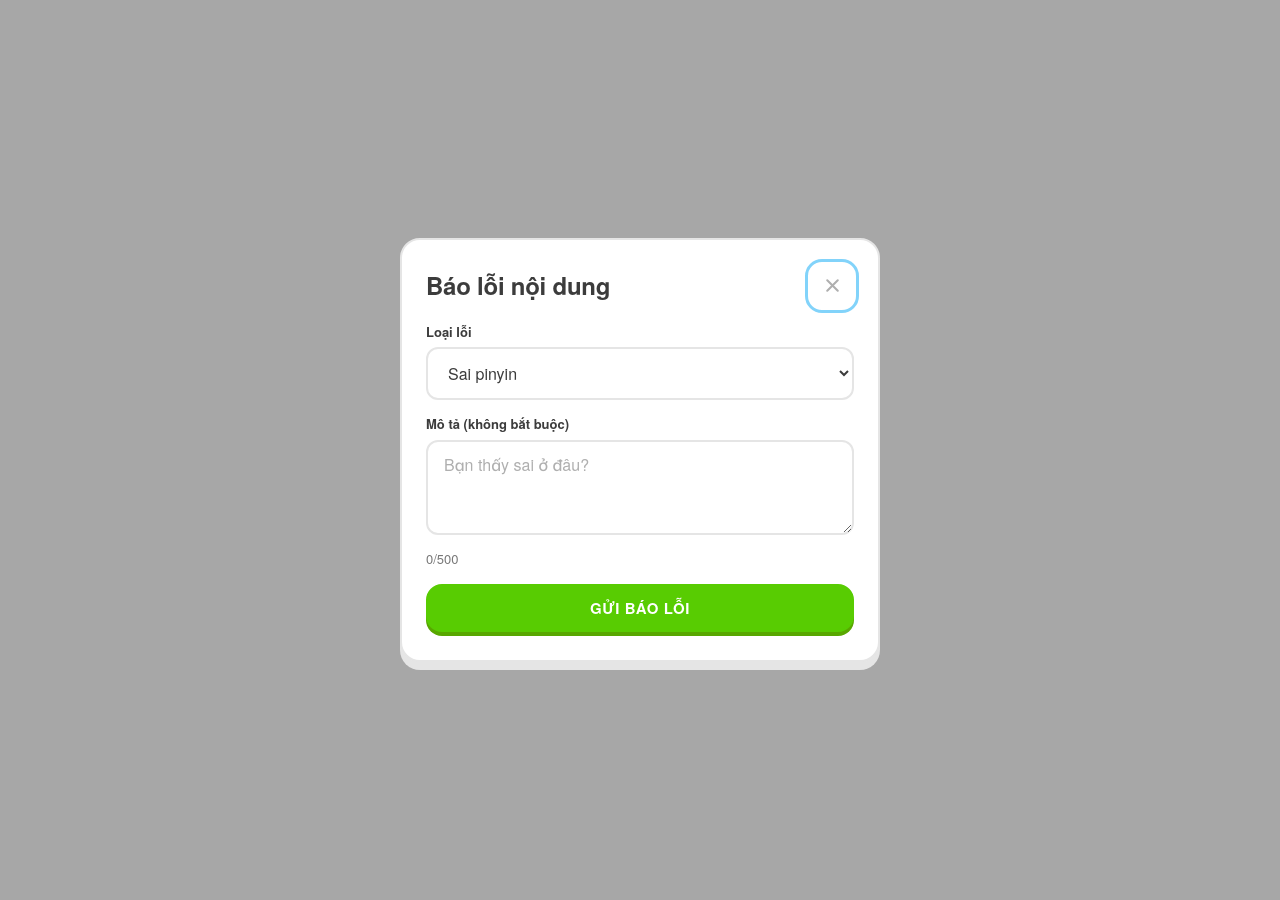
Test case: ReportSheet › 429 → thông báo gửi quá nhiều, sheet vẫn mở
Click the button "Gửi báo lỗi" at coordinates (640, 608), box top-left (426, 584), bottom-right (854, 632)
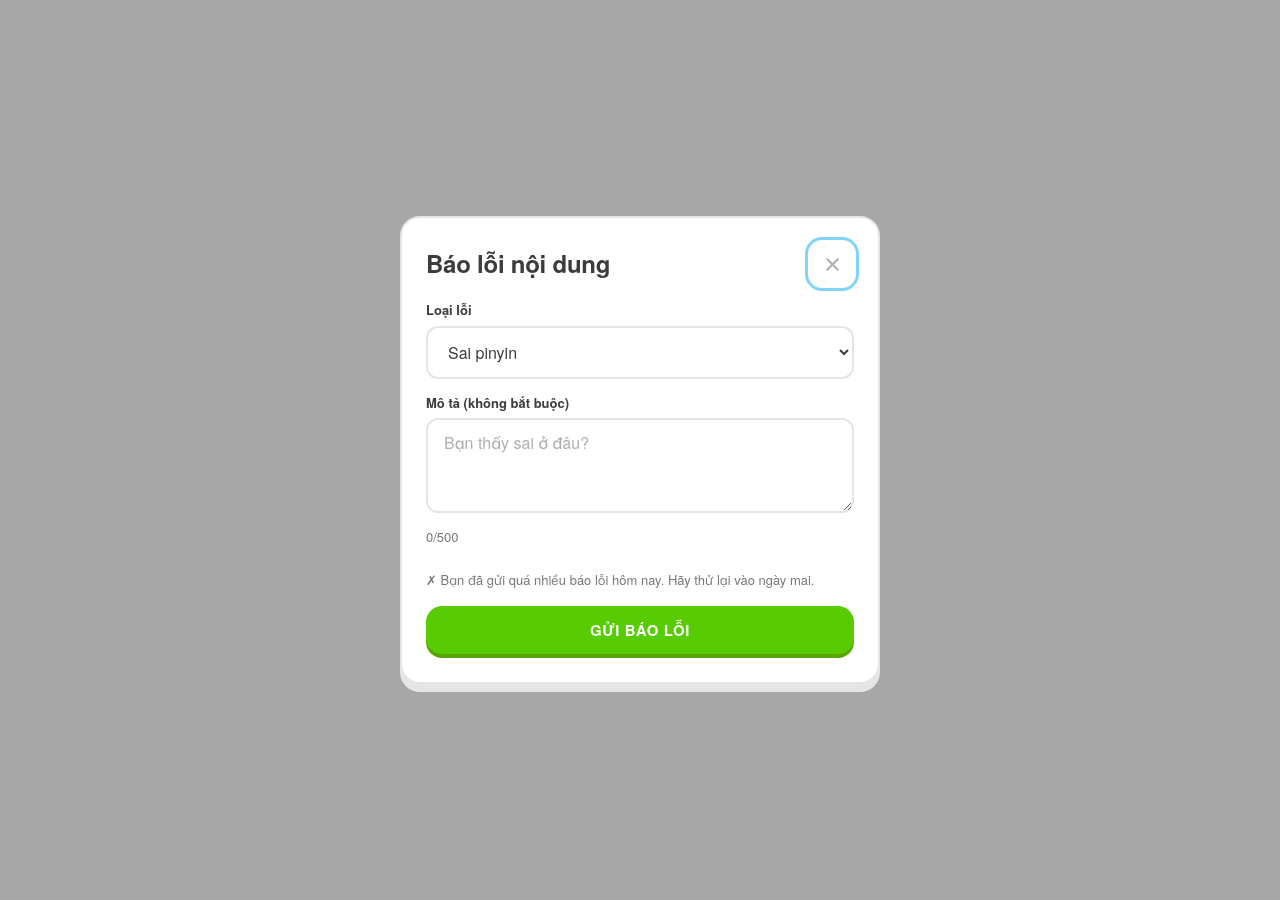
Result: the message "✗ Bạn đã gửi quá nhiều báo lỗi hôm nay. Hãy thử lại vào ngày mai." is shown at top-left (426, 570), bottom-right (854, 590)
Result: the message shows "quá nhiều" at top-left (440, 570), bottom-right (814, 589)
